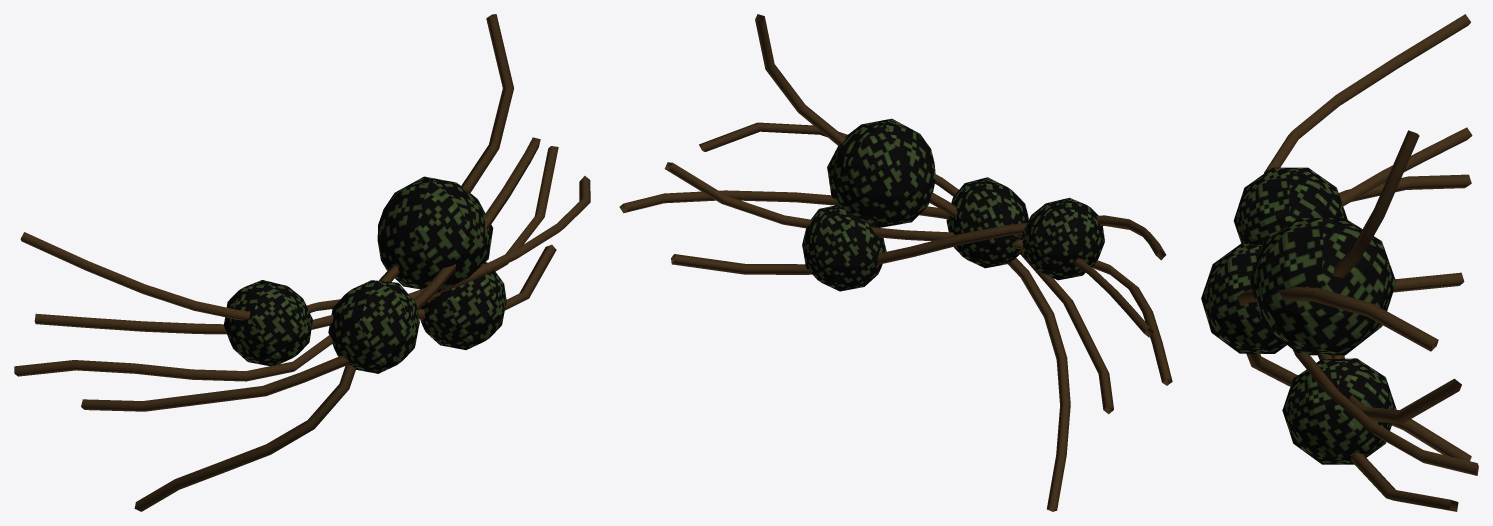
File: TreeRoot3.fbx
The picture shows the model from 3 angles, left to right: view 1: azimuth 30°, elevation 25°; view 2: azimuth 150°, elevation 25°; view 3: azimuth 270°, elevation 25°; orthographic projection. The views are drawn at different scales.
Parts seen in each view (by area): view 1: TreeRoot3; view 2: TreeRoot3; view 3: TreeRoot3.
Part boxes in pixels (x1,y1,x2,y2): TreeRoot3: (14, 14, 590, 511); TreeRoot3: (619, 14, 1172, 511); TreeRoot3: (1201, 14, 1478, 511).
Bounding box in the file's own units: 1049 × 744 × 349.
